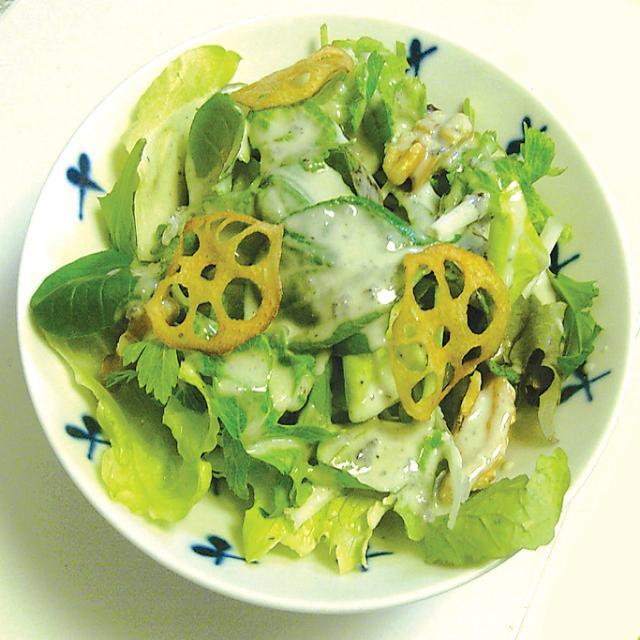Green Salad: (31, 14, 527, 575)
